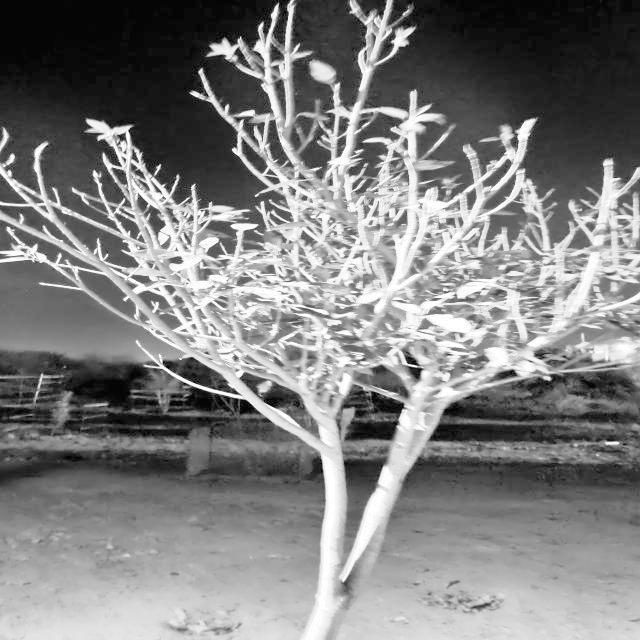Tree: (122, 74, 602, 640)
